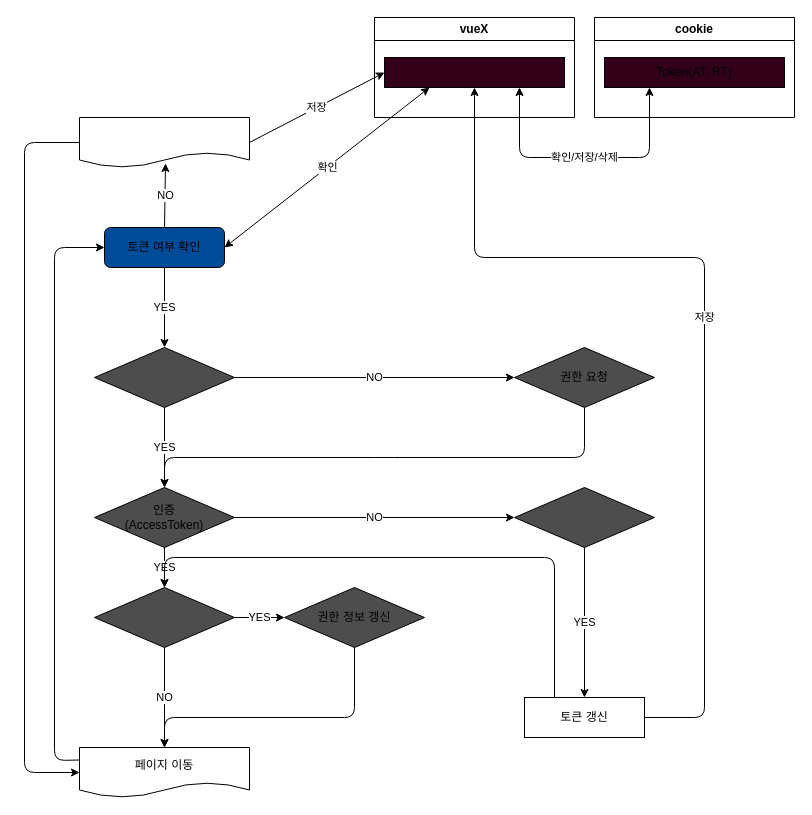
The diagram is 812 pixels wide and 815 high, and some of its shapes have lost their labels. Each missing label, with the centre of its shape:
"USER" goes at (474,72).
"권한 정보 포함" goes at (164,617).
"로그인" goes at (164,142).
"메뉴별 권한 여부" goes at (164,377).
"인증 (RefreshToken)" goes at (584,517).
